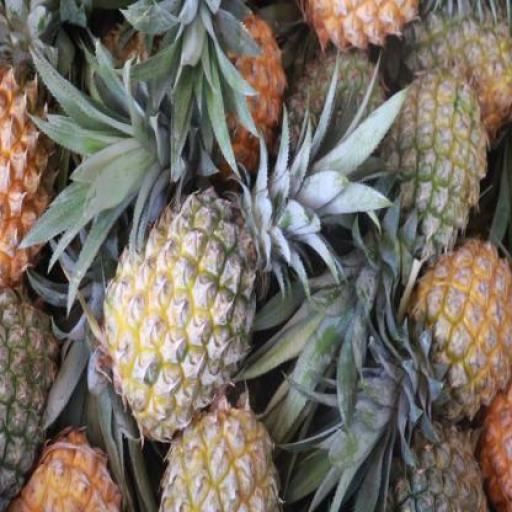------------------------------: (105, 186, 256, 433), (383, 69, 483, 263), (159, 407, 280, 510)
Pineapple - v8 v1: (413, 234, 512, 415), (0, 48, 54, 294)
